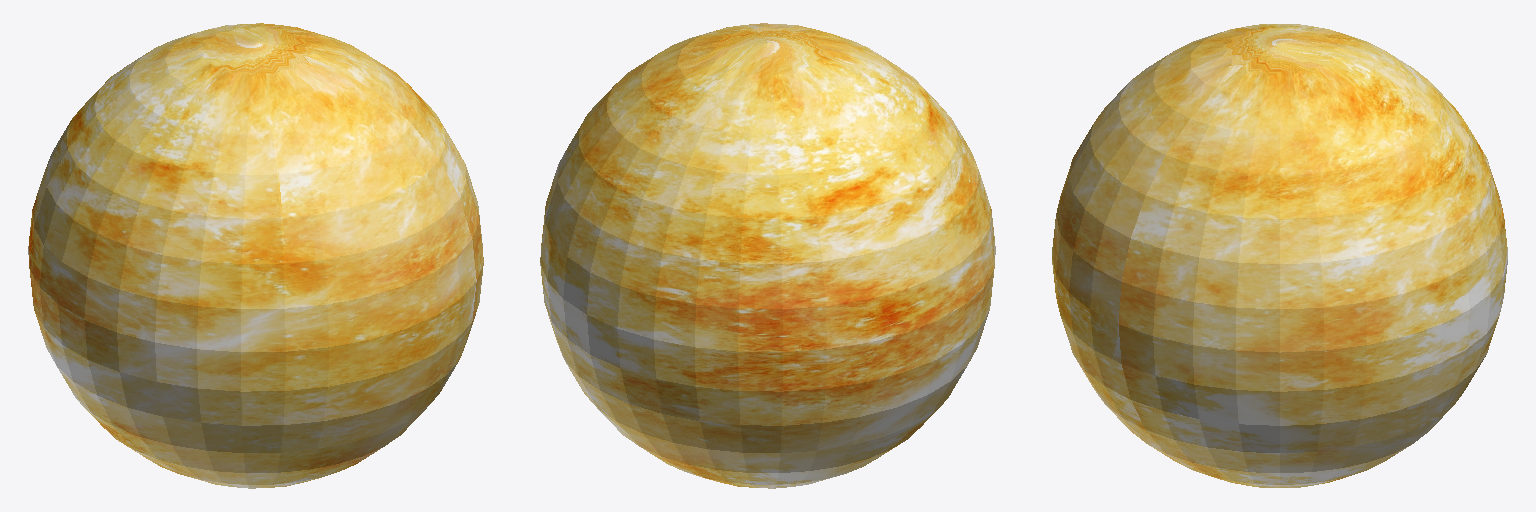
3 renders of one model, left to right at view 1: azimuth 30°, elevation 25°; view 2: azimuth 150°, elevation 25°; view 3: azimuth 270°, elevation 25°, orthographic.
Parts seen in each view (by area): view 1: sphere1; view 2: sphere1; view 3: sphere1.
Boxes of the visible parts, x1,y1,x2,y2 form: sphere1: [28, 23, 483, 488]; sphere1: [540, 23, 995, 488]; sphere1: [1052, 24, 1507, 487].
Size of the model in its own units: 4.21 by 4.34 by 4.21.
2 materials, 1 textured.